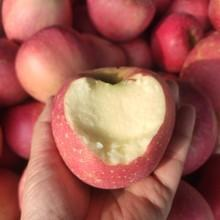apple: (52, 64, 177, 188), (13, 26, 94, 103), (148, 12, 204, 75), (1, 1, 74, 42), (88, 1, 155, 44)
